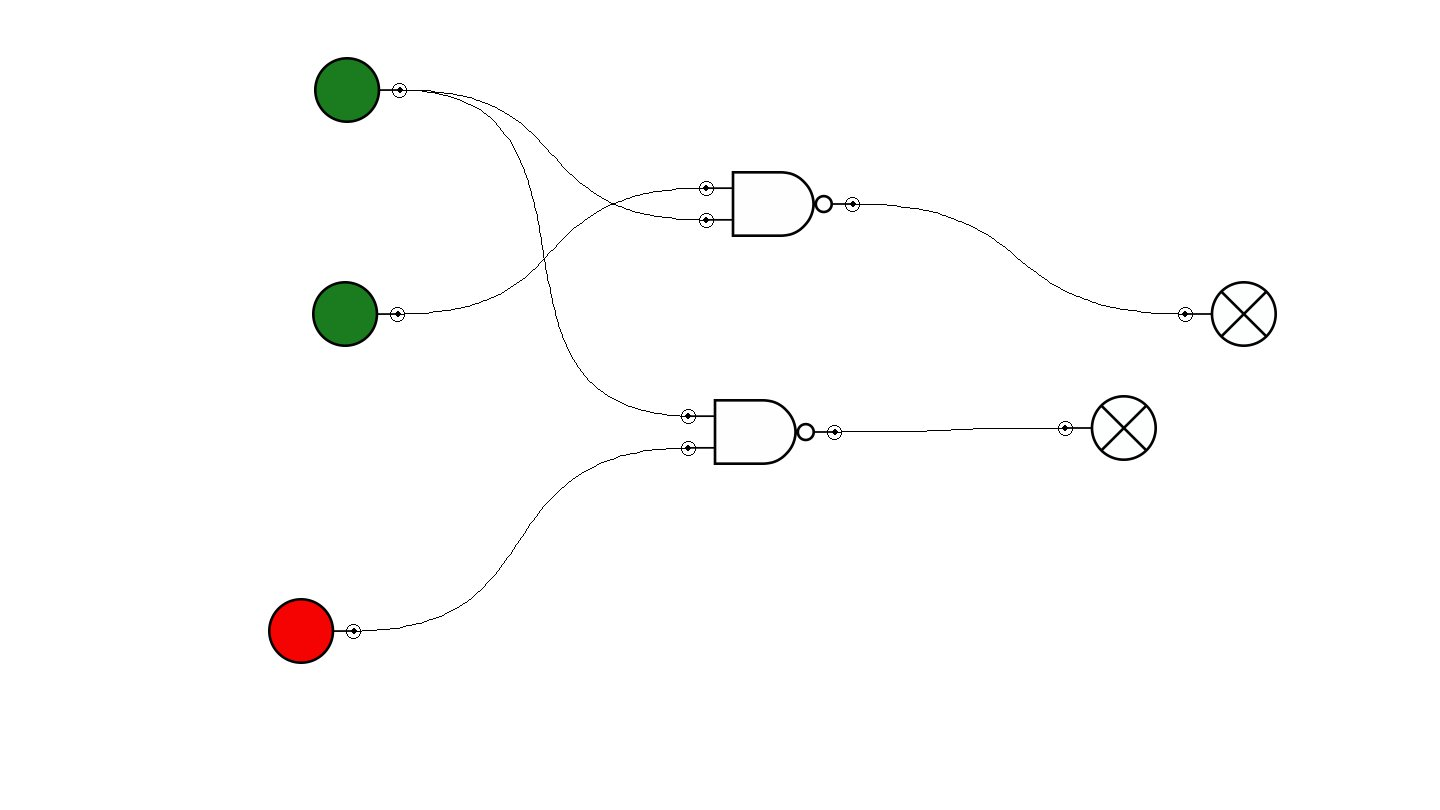bulb: (1058, 395, 1157, 461), (1178, 281, 1277, 347)
nand: (681, 399, 842, 465), (699, 171, 860, 237)
switch_False: (268, 598, 361, 664)
switch_True: (312, 281, 405, 347), (314, 57, 407, 123)
